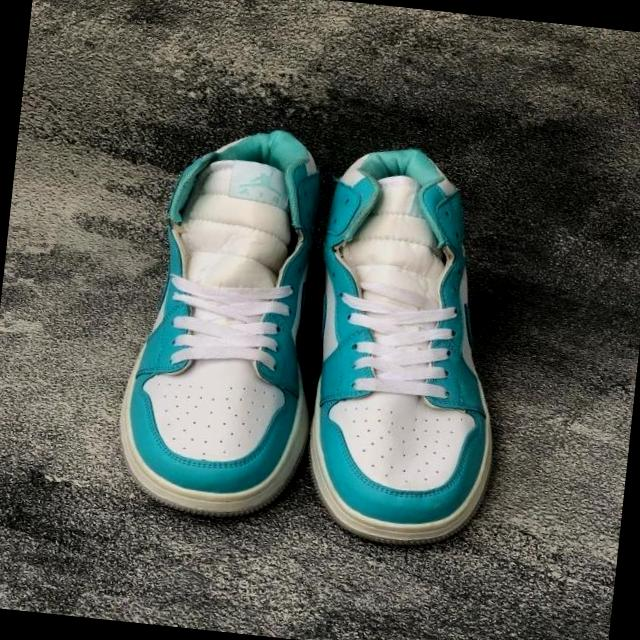nike_fake_jordan: (286, 137, 534, 556), (111, 111, 335, 524)
